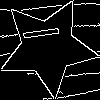I: (22, 22, 69, 43)
